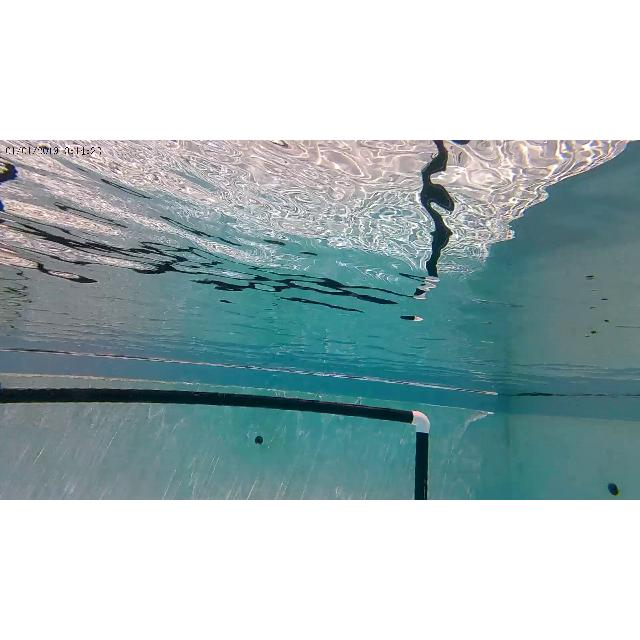prequal gate: (0, 386, 432, 499)
prequal gate leg r: (406, 408, 440, 500)
